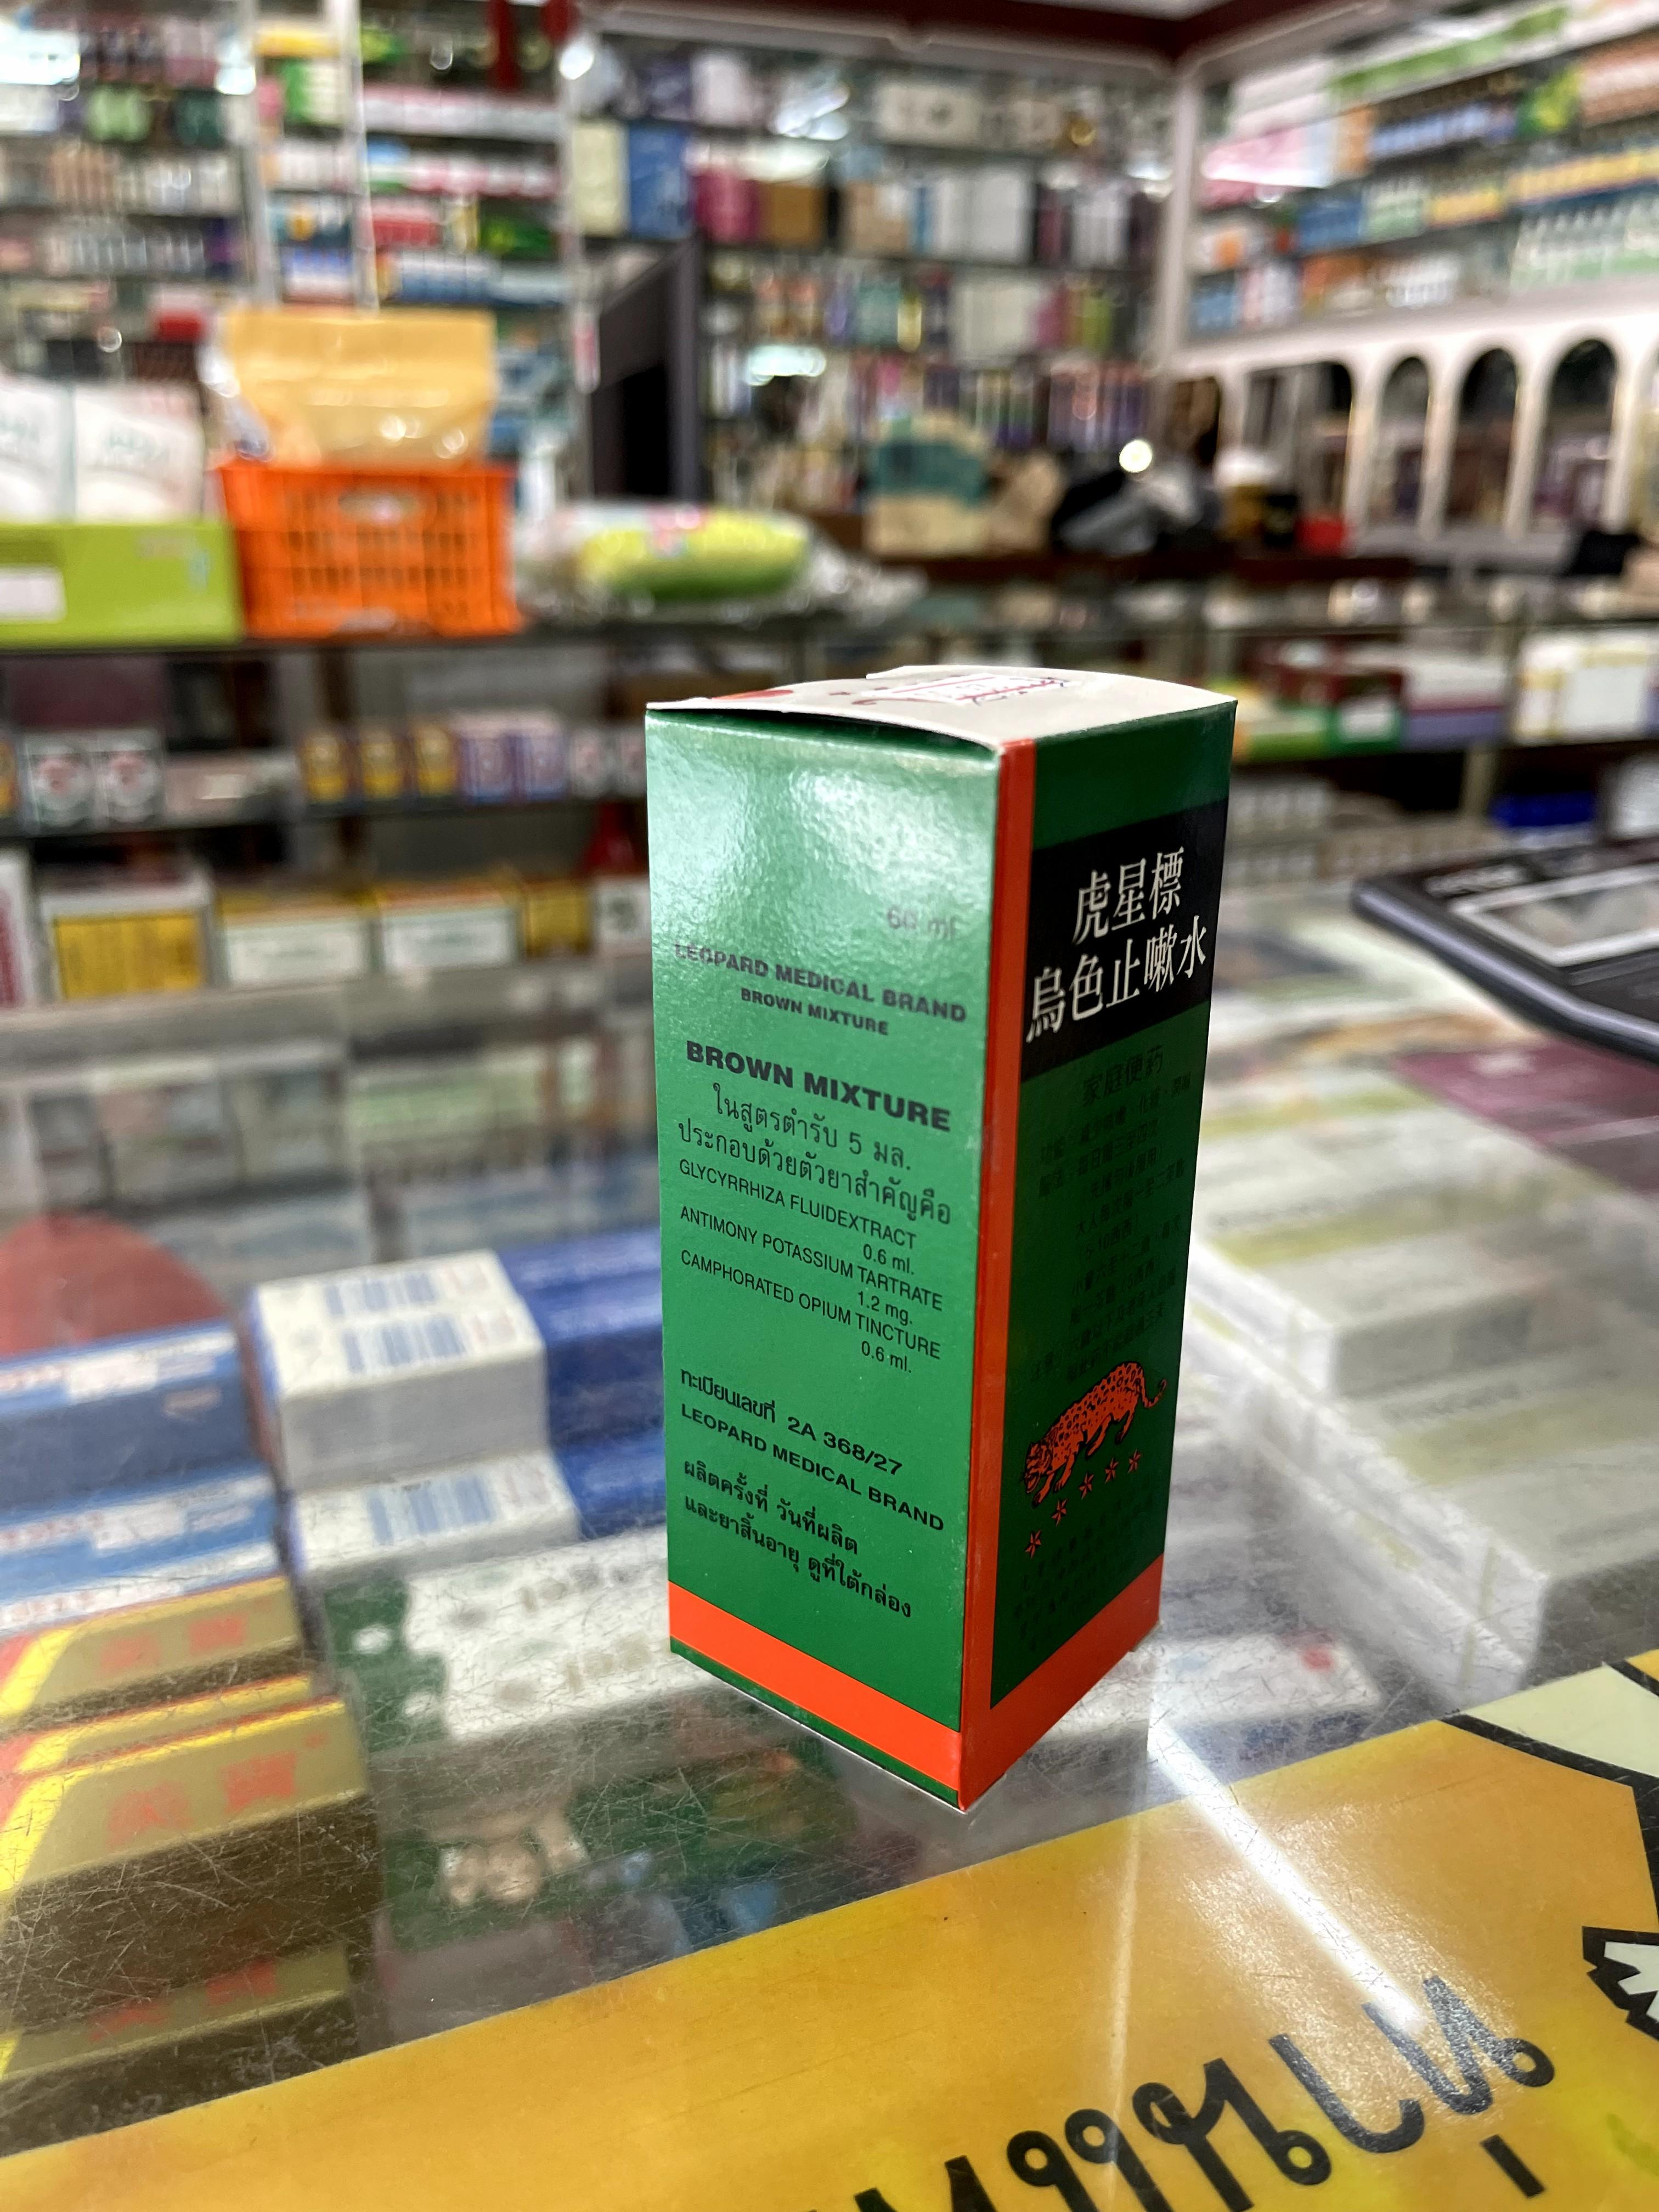Black-Tiger: (653, 667, 1232, 1791)
